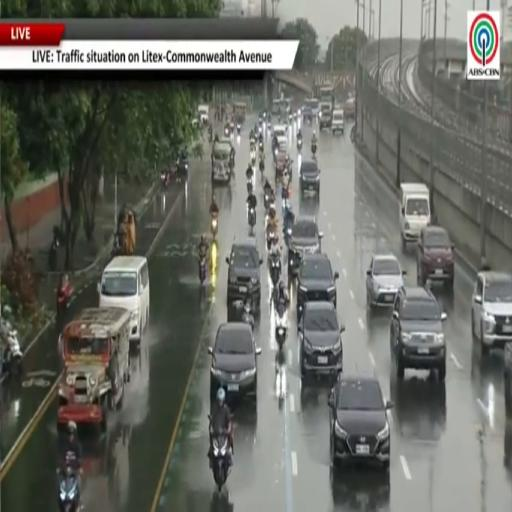car: (328, 375, 393, 470), (390, 286, 446, 380), (209, 323, 261, 402), (298, 301, 344, 377), (471, 271, 511, 355), (297, 253, 339, 318), (227, 237, 263, 312), (417, 226, 454, 289), (366, 254, 405, 309), (288, 216, 323, 275), (300, 160, 320, 194), (504, 341, 512, 418), (319, 103, 332, 131), (331, 109, 345, 134), (275, 151, 286, 179), (273, 124, 287, 139), (277, 136, 287, 152)
jeepney: (58, 308, 130, 430), (233, 103, 246, 124)
motorcycle: (0, 318, 22, 377), (211, 430, 230, 492), (59, 467, 80, 511), (56, 287, 72, 332), (274, 301, 288, 350), (269, 252, 281, 287), (48, 236, 59, 271), (242, 301, 254, 329), (199, 256, 206, 285), (248, 208, 255, 232), (267, 232, 276, 250), (211, 215, 218, 238), (160, 172, 170, 188), (246, 178, 253, 195), (264, 192, 270, 211), (229, 156, 235, 174), (251, 150, 256, 165), (259, 159, 264, 173), (297, 138, 302, 151), (230, 122, 235, 134), (224, 126, 230, 136), (312, 143, 317, 155), (250, 136, 255, 148), (259, 141, 263, 154), (237, 123, 241, 135), (263, 111, 267, 120), (209, 131, 212, 142), (308, 117, 312, 125), (259, 118, 263, 125), (289, 115, 293, 122), (294, 112, 297, 120)
